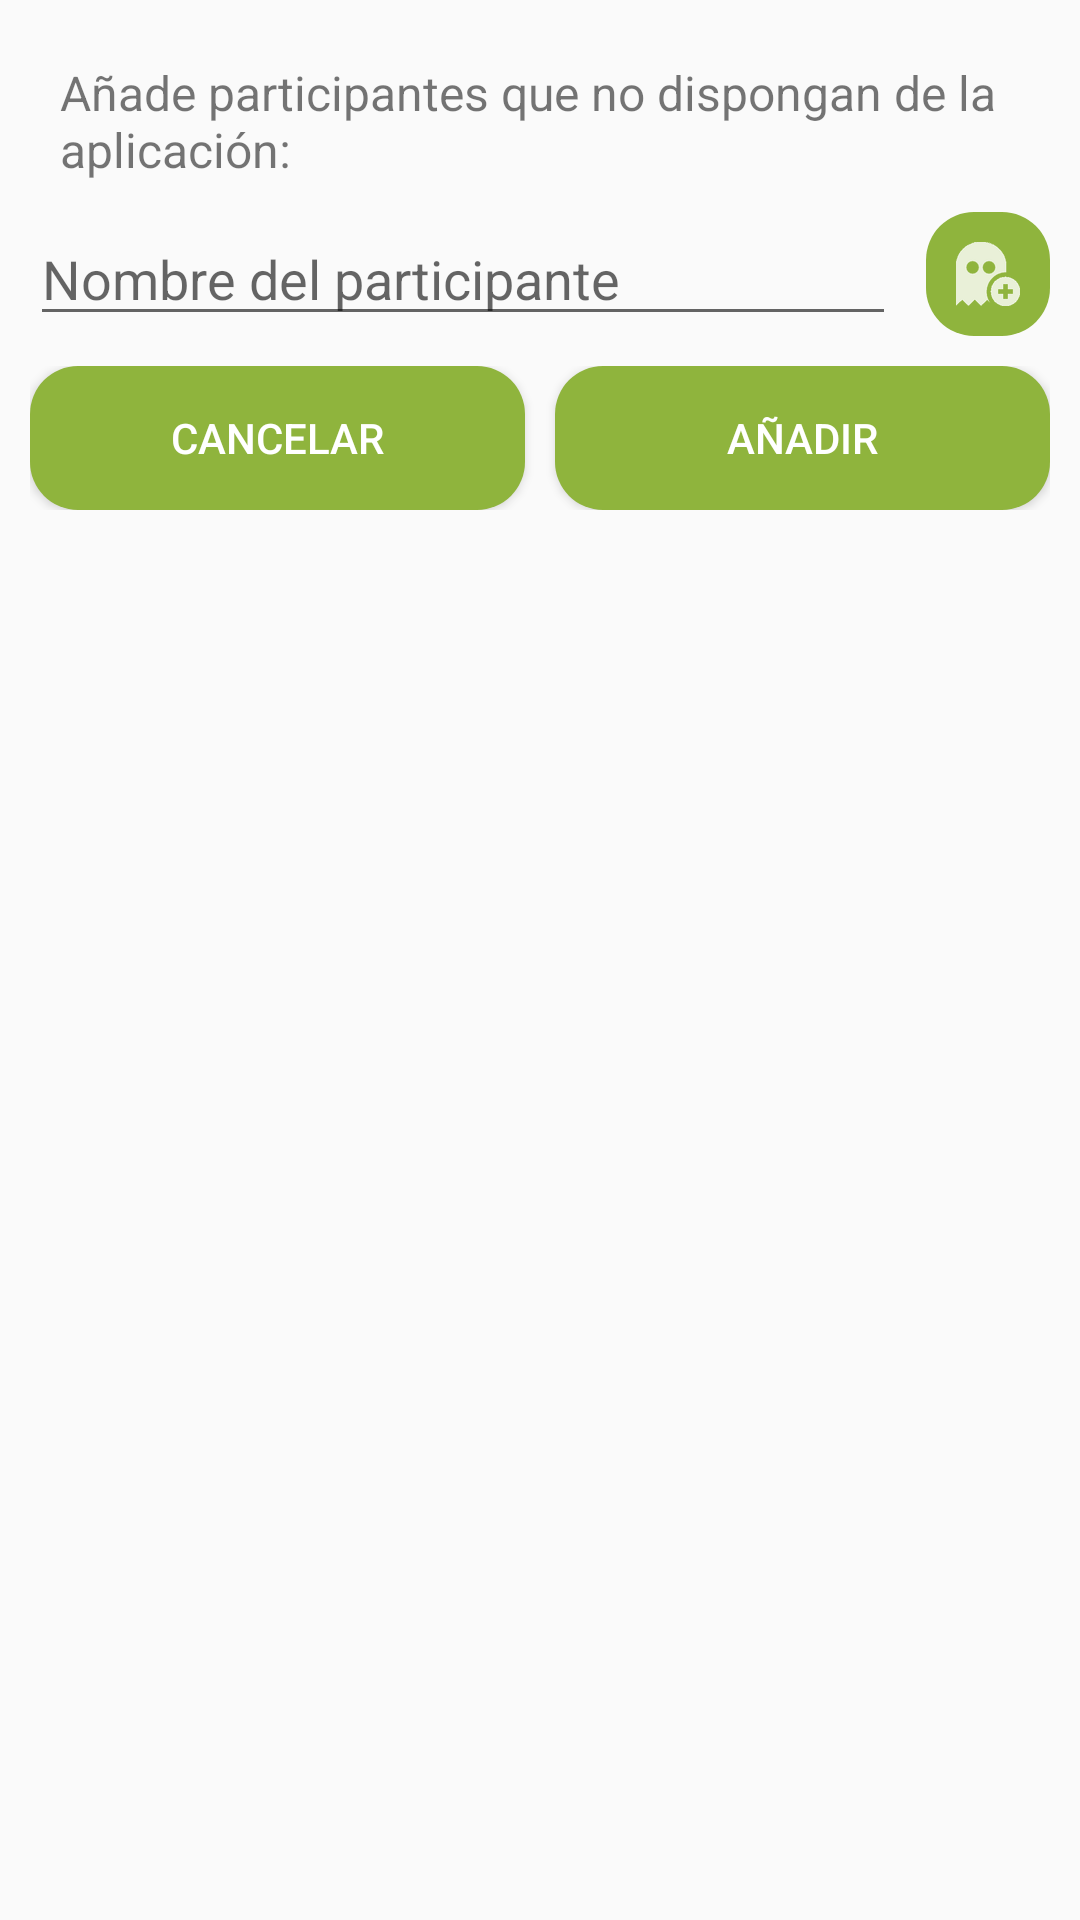

Screen size 1080px x 1920px. Icon name, then its box in pixels as (x1, y1, x2, y2):
add phantom: (926, 212, 1050, 336)
